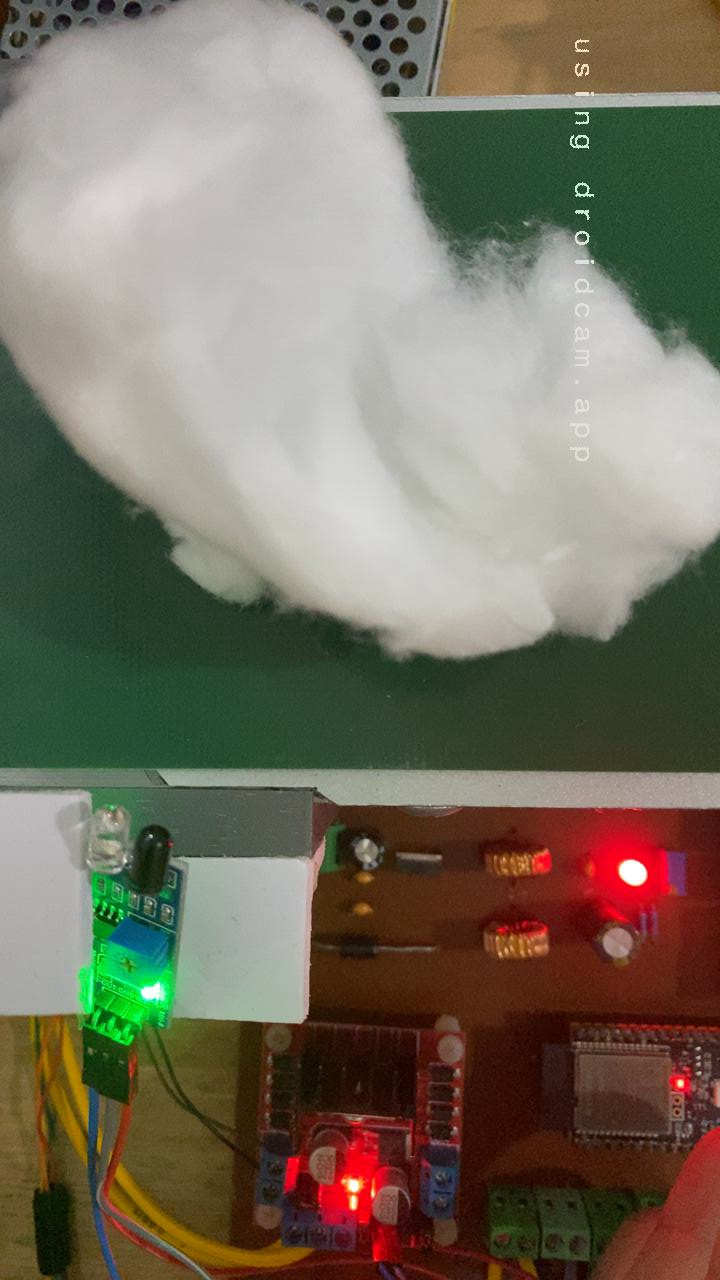cotton: (0, 111, 720, 668)
